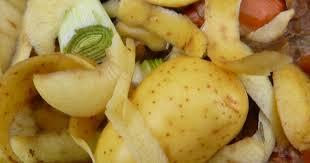Organic: (1, 1, 310, 163)
